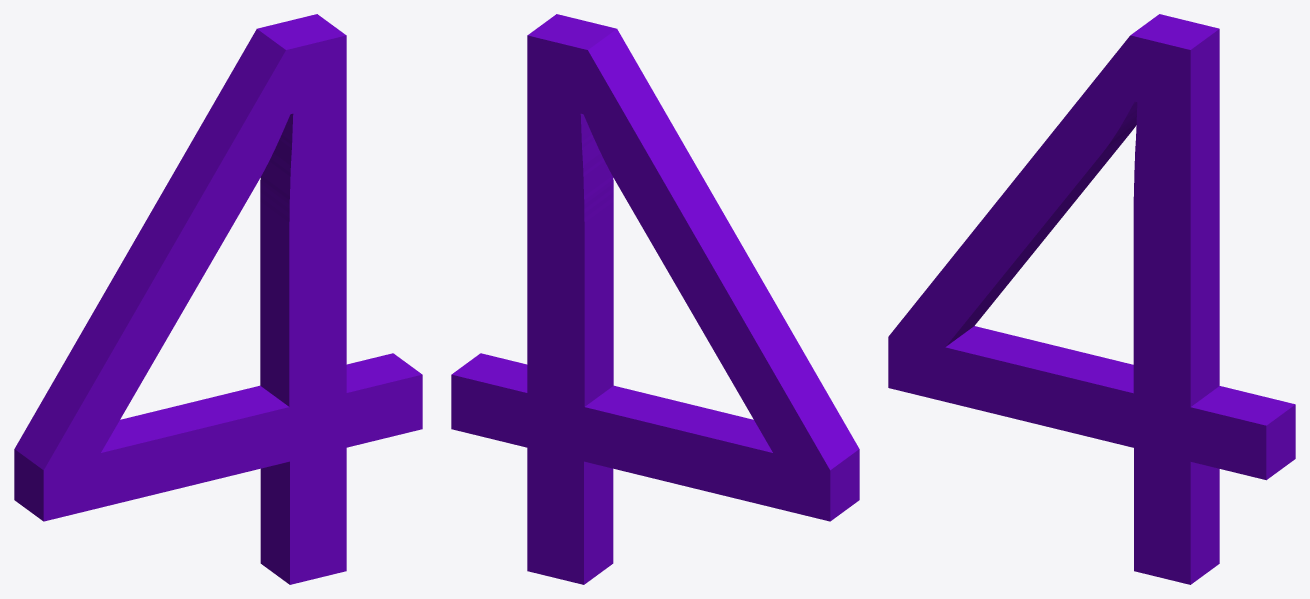
The model's file is 3d-number-4.glb.
3 views of the same model, side by side, from view 1: azimuth 30°, elevation 25°; view 2: azimuth 150°, elevation 25°; view 3: azimuth 330°, elevation 25° (orthographic).
Parts seen in each view (by area): view 1: Mesh_Mesh_head_geo.001_lambert2SG.001; view 2: Mesh_Mesh_head_geo.001_lambert2SG.001; view 3: Mesh_Mesh_head_geo.001_lambert2SG.001.
Boxes of the visible parts, left/top/right/bottom form: Mesh_Mesh_head_geo.001_lambert2SG.001: left=14, top=14, right=422, bottom=584; Mesh_Mesh_head_geo.001_lambert2SG.001: left=451, top=14, right=859, bottom=584; Mesh_Mesh_head_geo.001_lambert2SG.001: left=888, top=14, right=1295, bottom=584.
Size of the model in its own units: 0.0374 by 0.0505 by 0.005.
